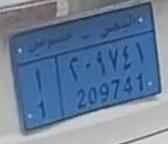city: (15, 56, 63, 130)
number: (56, 31, 160, 120)
text: (11, 3, 154, 66)
